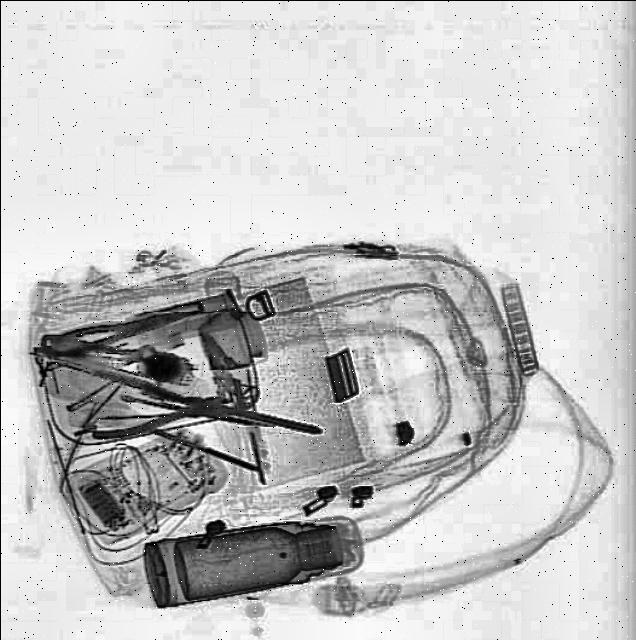Pliers: (90, 365, 256, 441), (40, 294, 204, 360)
